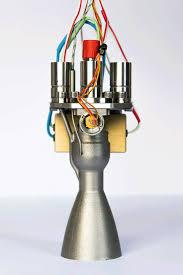thruster: (60, 176, 123, 262)
